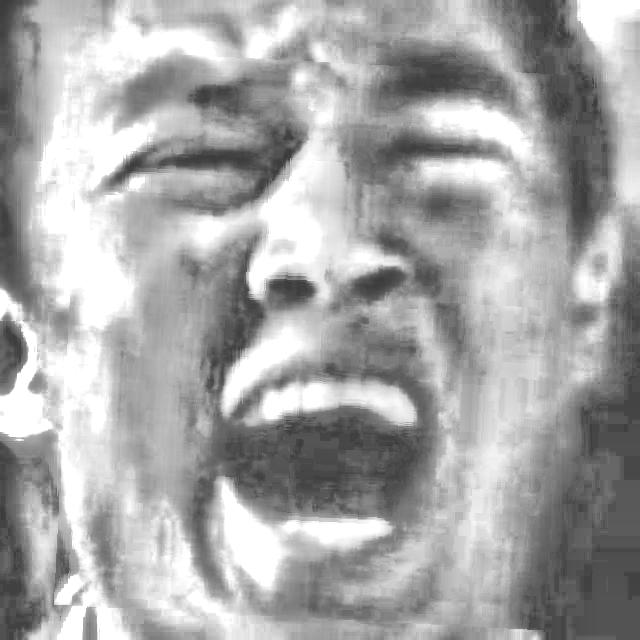angry: (61, 56, 567, 624)
